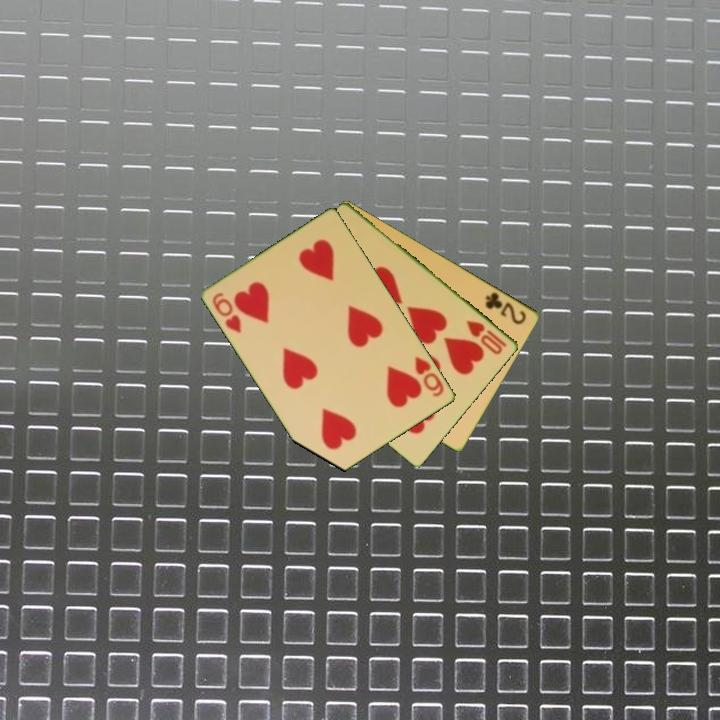10h: (463, 317, 510, 358)
2c: (482, 288, 530, 327)
6h: (411, 353, 447, 400), (209, 289, 245, 336)
